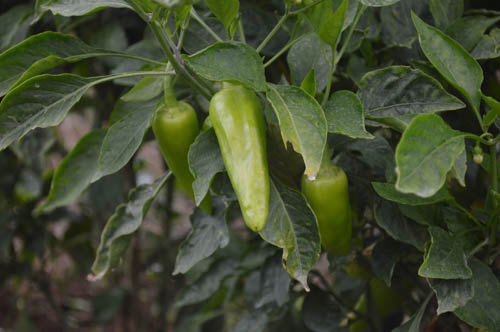ChiliPepper: (209, 89, 274, 234), (151, 105, 211, 213), (305, 166, 356, 255)
